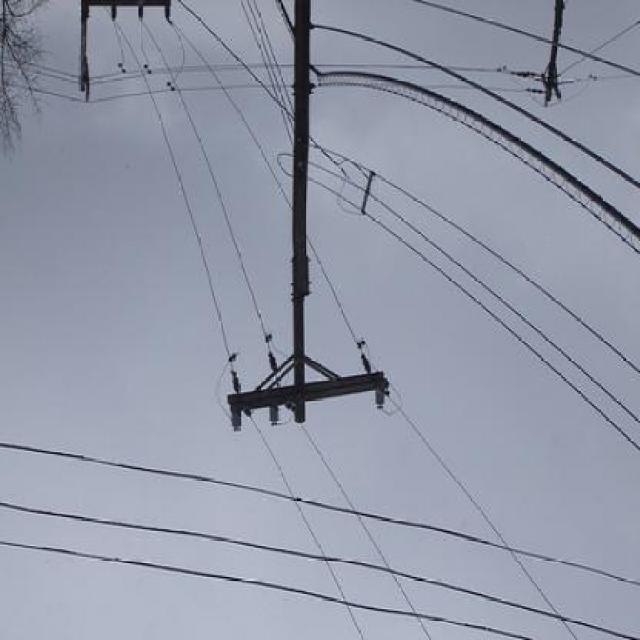pole: (208, 9, 369, 448)
